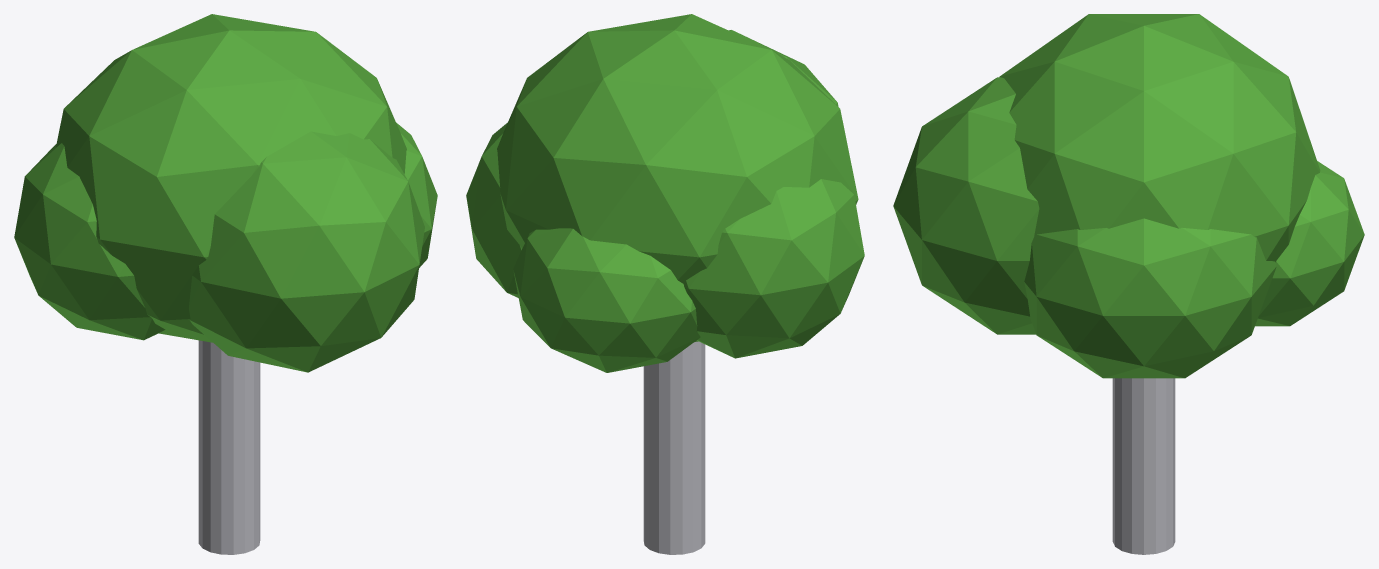
Rendered from lowpolyagac2.fbx.
The picture shows the model from 3 angles, left to right: view 1: azimuth 30°, elevation 25°; view 2: azimuth 150°, elevation 25°; view 3: azimuth 270°, elevation 25°; orthographic projection.
Parts seen in each view (by area): view 1: Kayin_Govde, Kayin_Yaprak_0, Kayin_Yaprak_2, Kayin_Yaprak_1; view 2: Kayin_Yaprak_0, Kayin_Yaprak_2, Kayin_Yaprak_3, Kayin_Govde, Kayin_Yaprak_1; view 3: Kayin_Yaprak_0, Kayin_Govde, Kayin_Yaprak_1, Kayin_Yaprak_3.
Part boxes in pixels (x1=…): Kayin_Govde: x1=189, y1=131, x2=424, y2=554; Kayin_Yaprak_0: x1=56, y1=14, x2=406, y2=342; Kayin_Yaprak_2: x1=14, y1=143, x2=165, y2=340; Kayin_Yaprak_1: x1=396, y1=122, x2=437, y2=267; Kayin_Yaprak_0: x1=497, y1=14, x2=858, y2=341; Kayin_Yaprak_2: x1=683, y1=179, x2=864, y2=358; Kayin_Yaprak_3: x1=513, y1=228, x2=700, y2=372; Kayin_Govde: x1=643, y1=30, x2=838, y2=554; Kayin_Yaprak_1: x1=466, y1=122, x2=521, y2=297; Kayin_Yaprak_0: x1=999, y1=14, x2=1320, y2=262; Kayin_Govde: x1=893, y1=77, x2=1175, y2=554; Kayin_Yaprak_1: x1=1024, y1=218, x2=1276, y2=378; Kayin_Yaprak_3: x1=1255, y1=161, x2=1364, y2=326.
Size of the model in its own units: 346 by 454 by 376.
